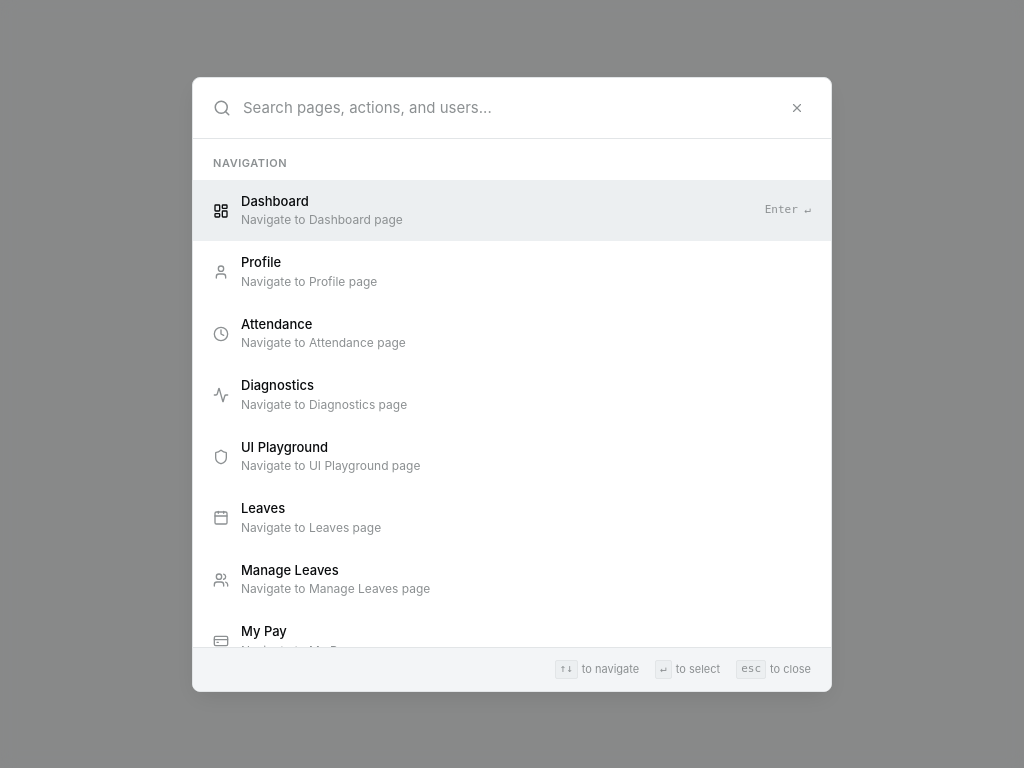
Test: SearchPalette Component › should fetch and display users dynamically from backend on debounced search input
Step 1. Type "dynamic-user" into the field with placeholder "Search pages, actions, and users..." → (507, 108), box x1=243 y1=97 x2=771 y2=120
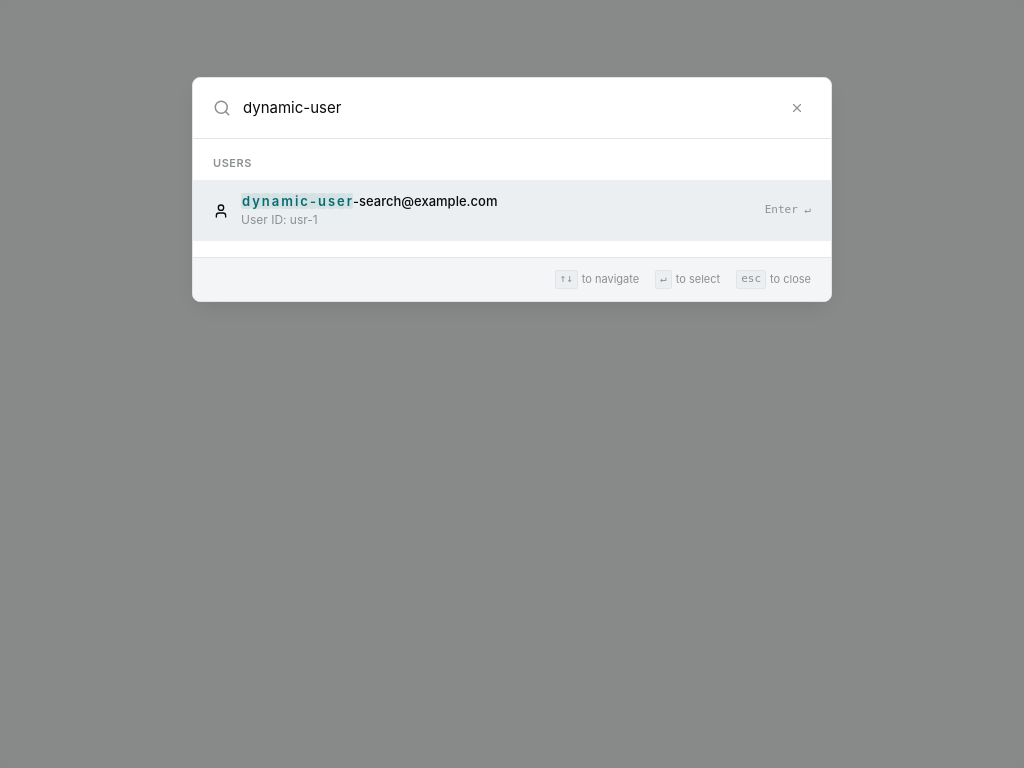
Result: the text "Users" is shown at x1=213 y1=156 x2=252 y2=170
Result: the element showing "dynamic-user-search@example.com" is shown at x1=241 y1=193 x2=498 y2=209
